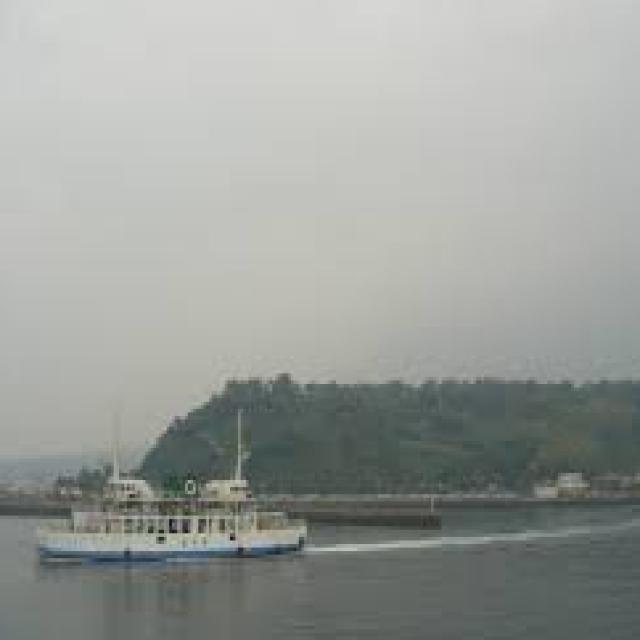houseboat: (43, 462, 299, 581)
